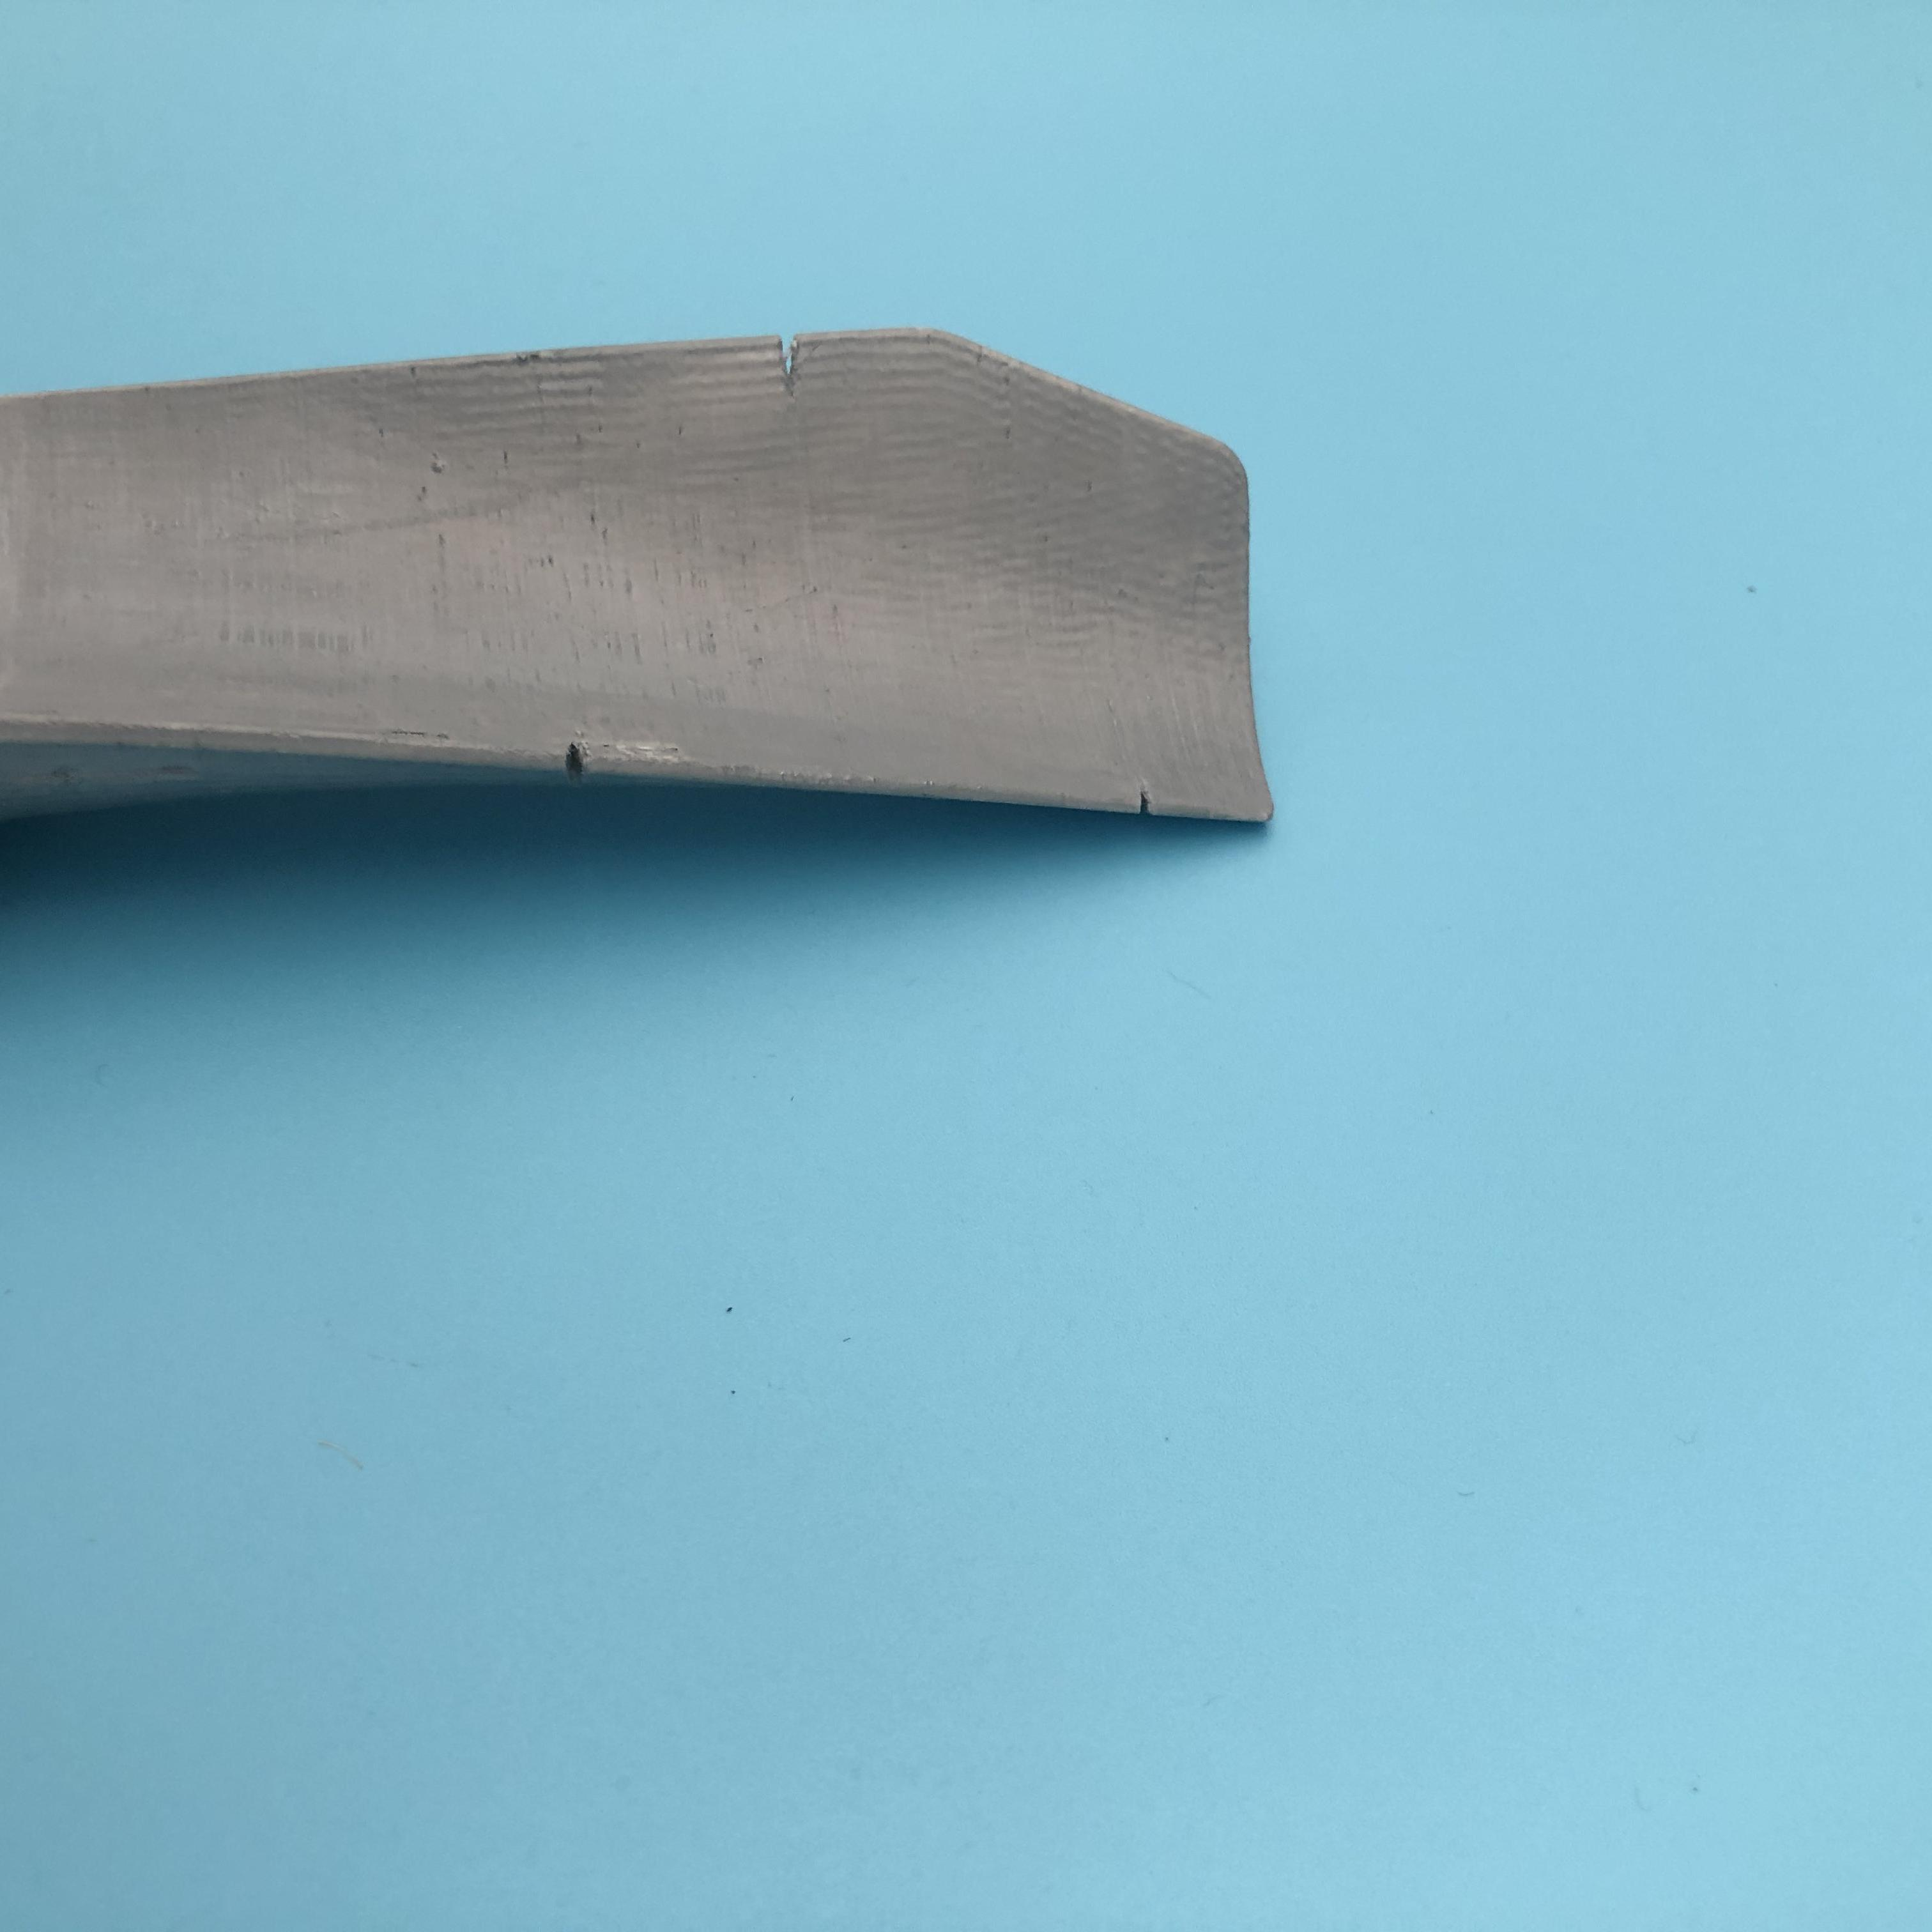groove: (770, 338, 826, 389), (1120, 777, 1168, 816), (547, 748, 602, 773)
